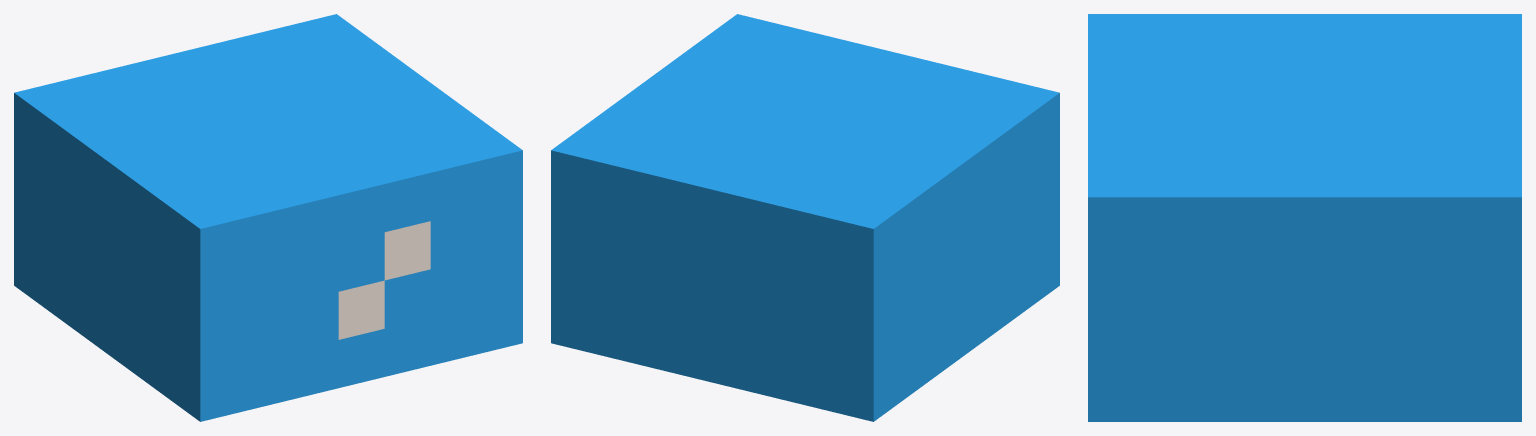
File: blob_b_idle_1.obj
3 views of the same model, side by side, from view 1: azimuth 30°, elevation 25°; view 2: azimuth 150°, elevation 25°; view 3: azimuth 270°, elevation 25° (orthographic). The views are drawn at different scales.
Size of the model in its own units: 0.7 by 0.4 by 0.7.
Materials: 1 (1 with a texture image).
